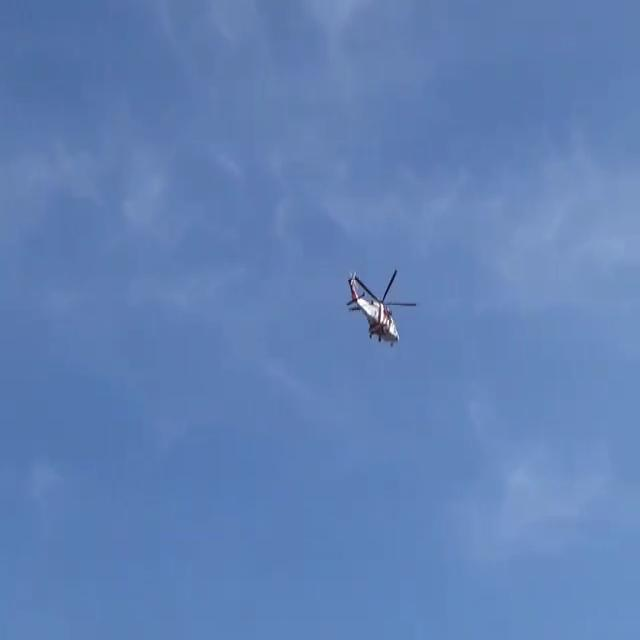Helicopter: (309, 218, 458, 378)
